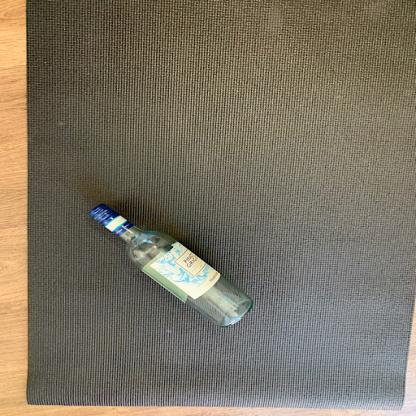trash: (89, 201, 260, 331)
